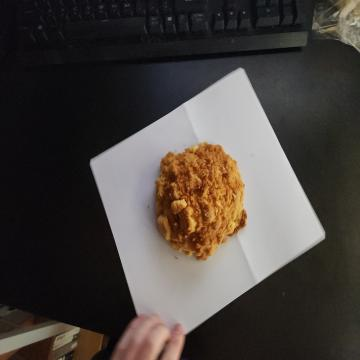soboru_bread: (151, 141, 248, 268)
